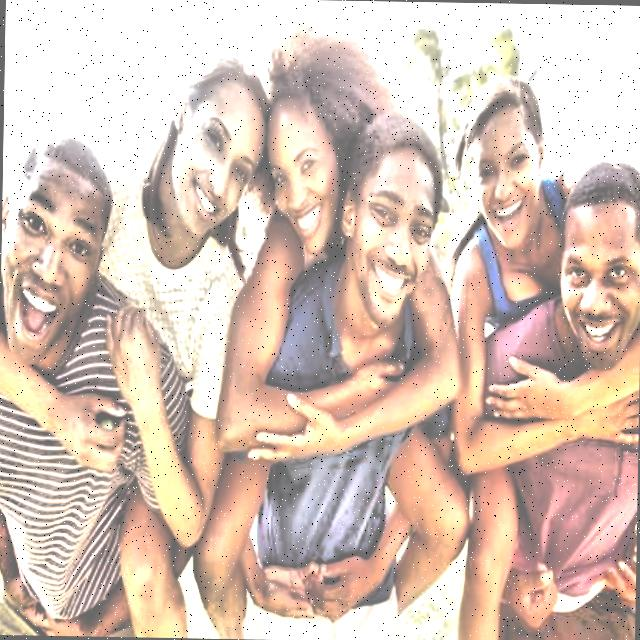happy: (234, 17, 410, 275), (526, 117, 640, 399), (321, 108, 458, 342), (0, 127, 119, 379), (141, 44, 275, 250), (440, 65, 561, 260)
